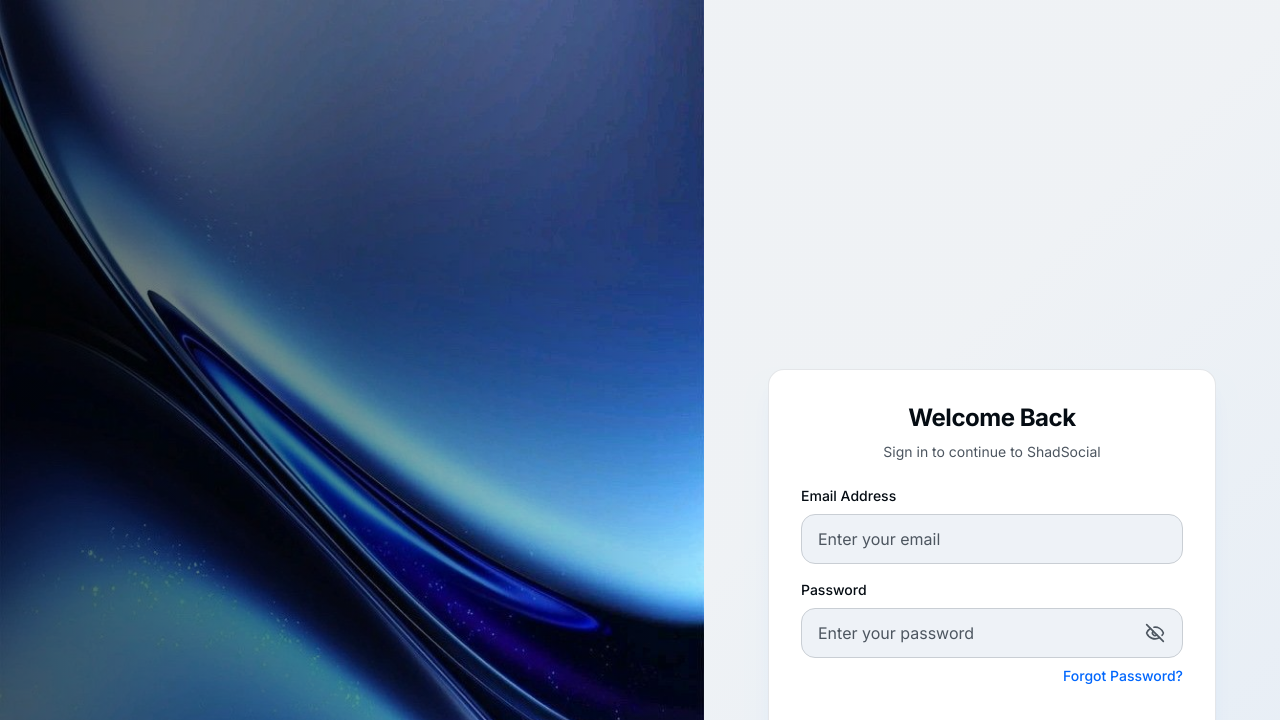
Test: Login Component › Deactivated Account Flow › should show reactivate modal for deactivated account
Type "test@example.com" into the field labelled "Email Address". click: (992, 539)
box: [801,514,1183,564]
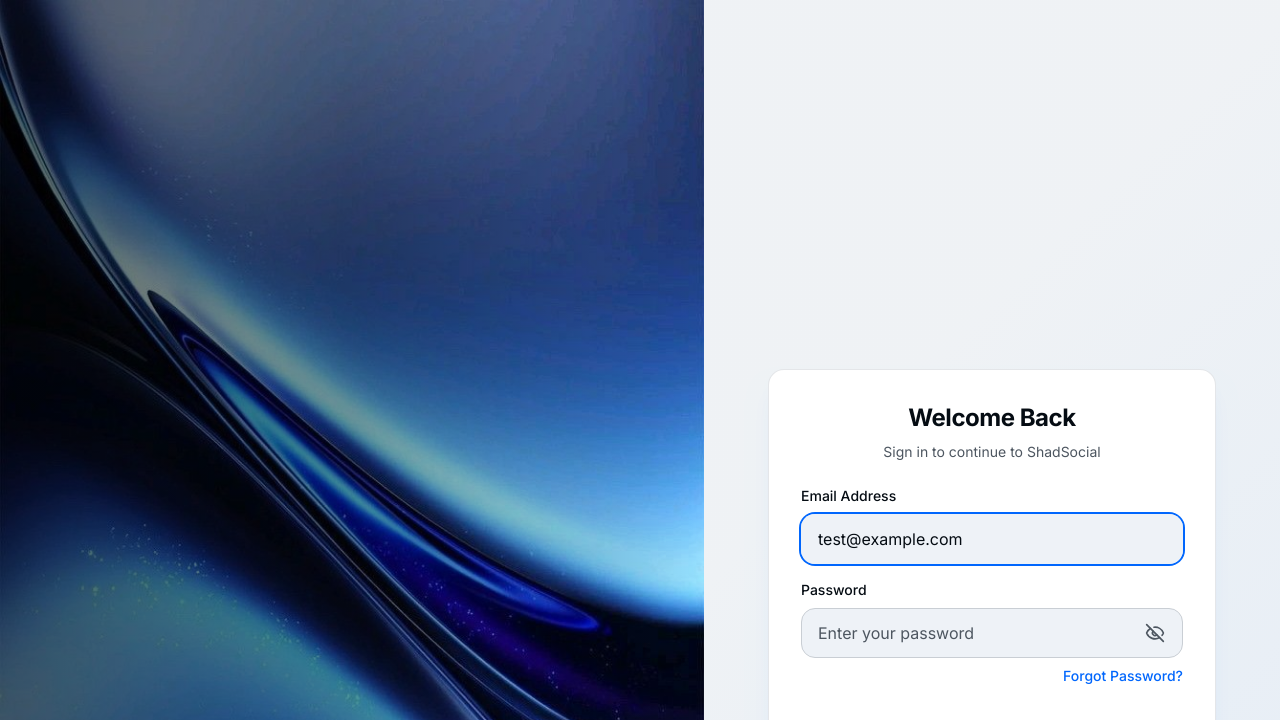
Type "password123" into the password field labelled "Password". click: (992, 633)
box: [801,608,1183,658]
(page scrolled)
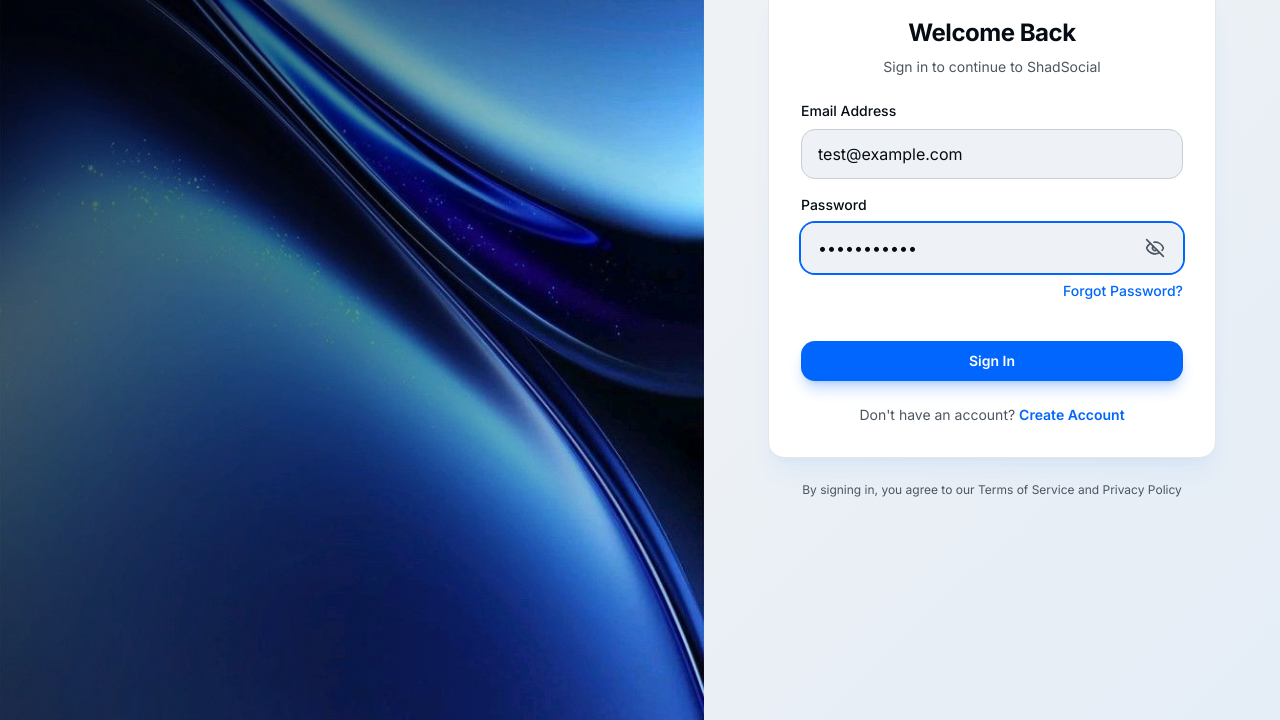
Click the button "Sign In". click: click(992, 361)
box: [801,341,1183,381]
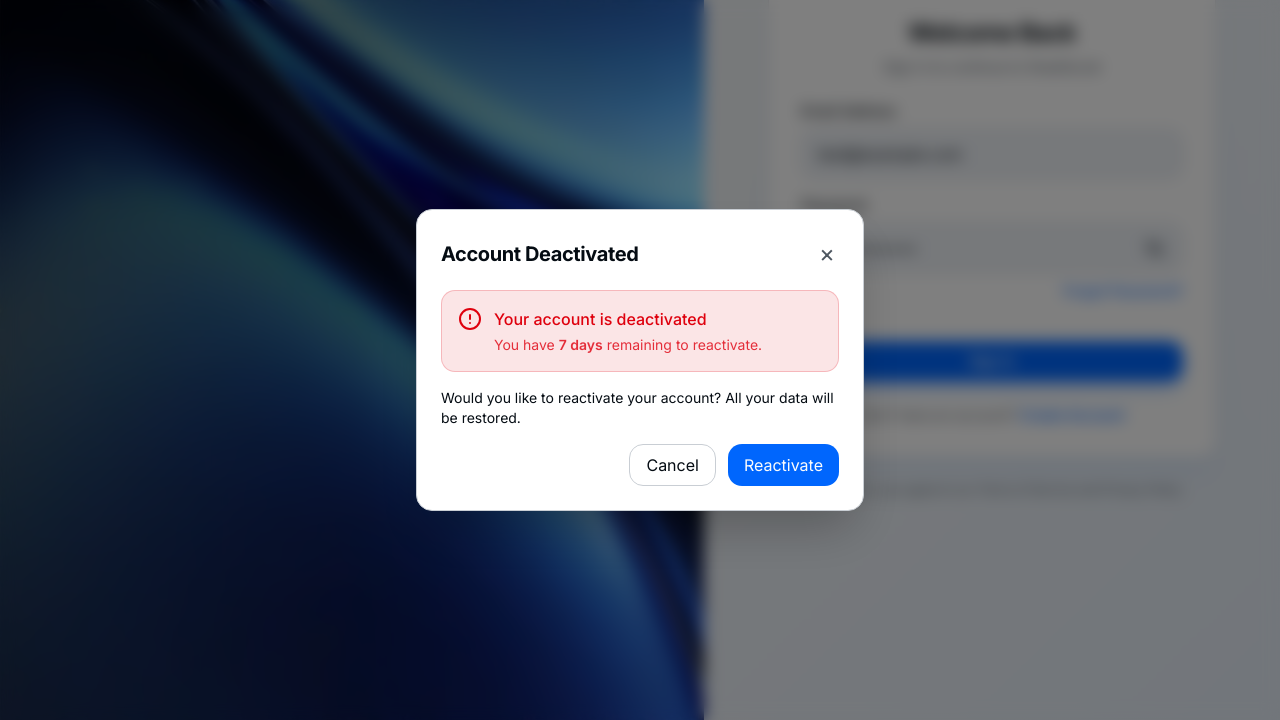
expect the heading "Account Deactivated" is shown: met, box [441,240,638,268]
